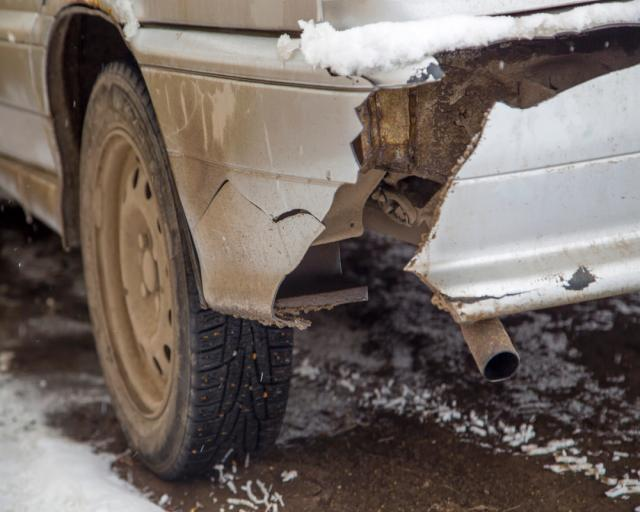crack: (190, 23, 640, 325), (445, 287, 541, 304)
